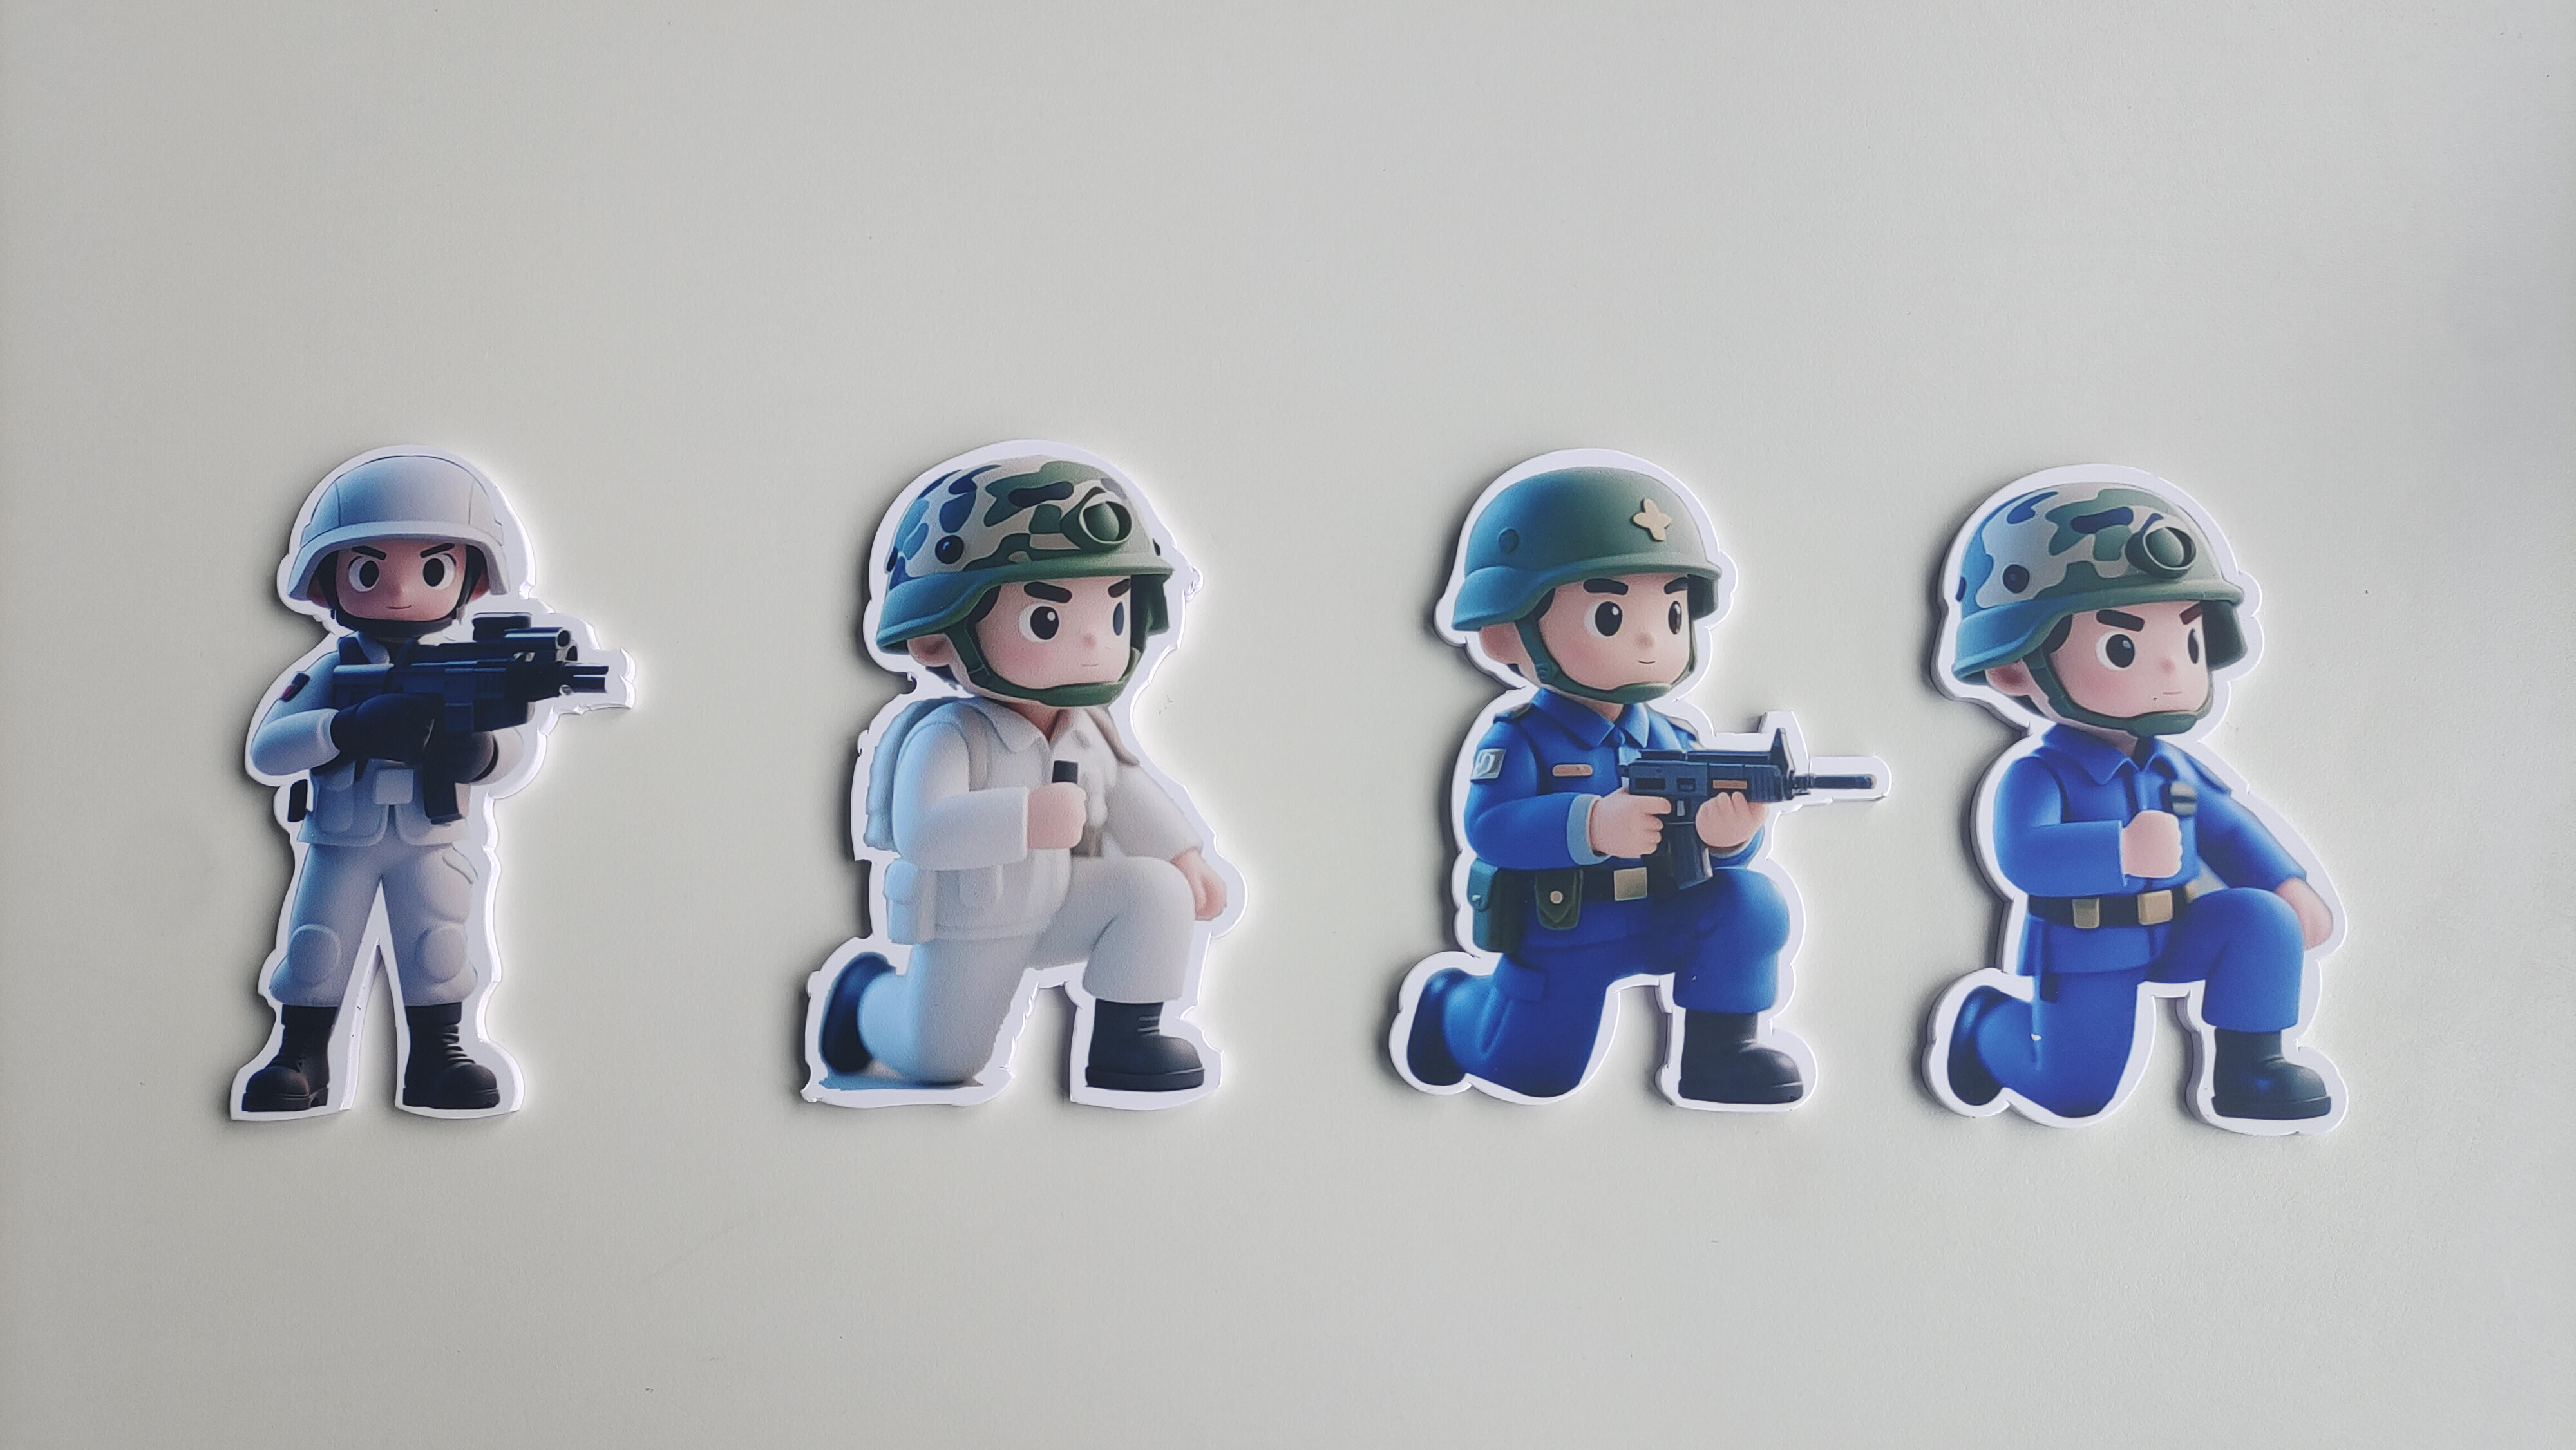enemy2: (1918, 729, 2355, 1158), (1371, 693, 1817, 1103)
hostage: (784, 697, 1253, 1116), (219, 651, 559, 1126)
